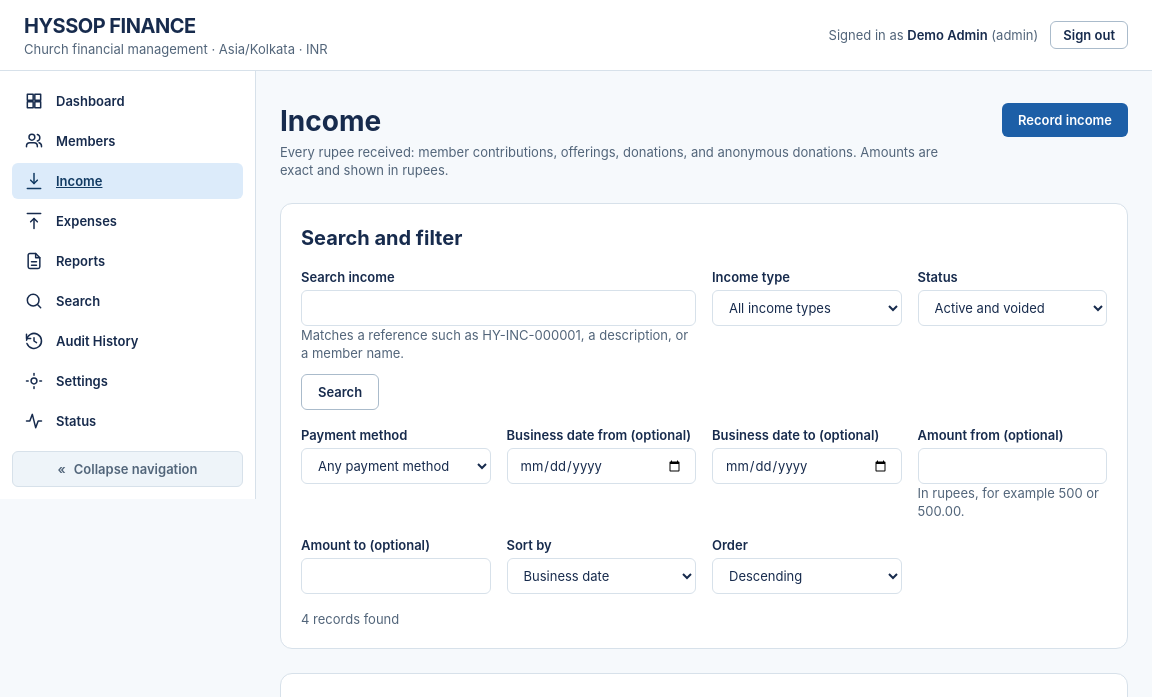
Test: searching and filtering income › shows the active criteria, can clear one, and can reset them all
Select "Active only" in the dropdown labelled "Status" at point(1012, 308), box 918,290 -> 1107,326
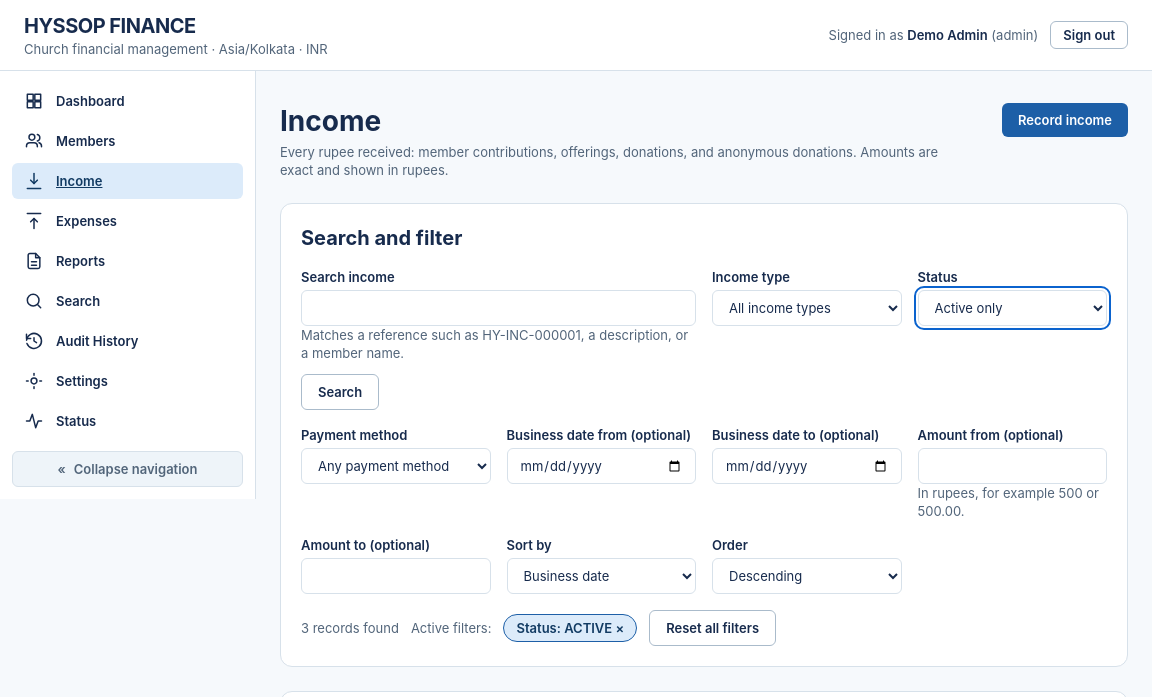
Type "offering" into the search field labelled "Search income" at point(498, 308), box 301,290 -> 696,326
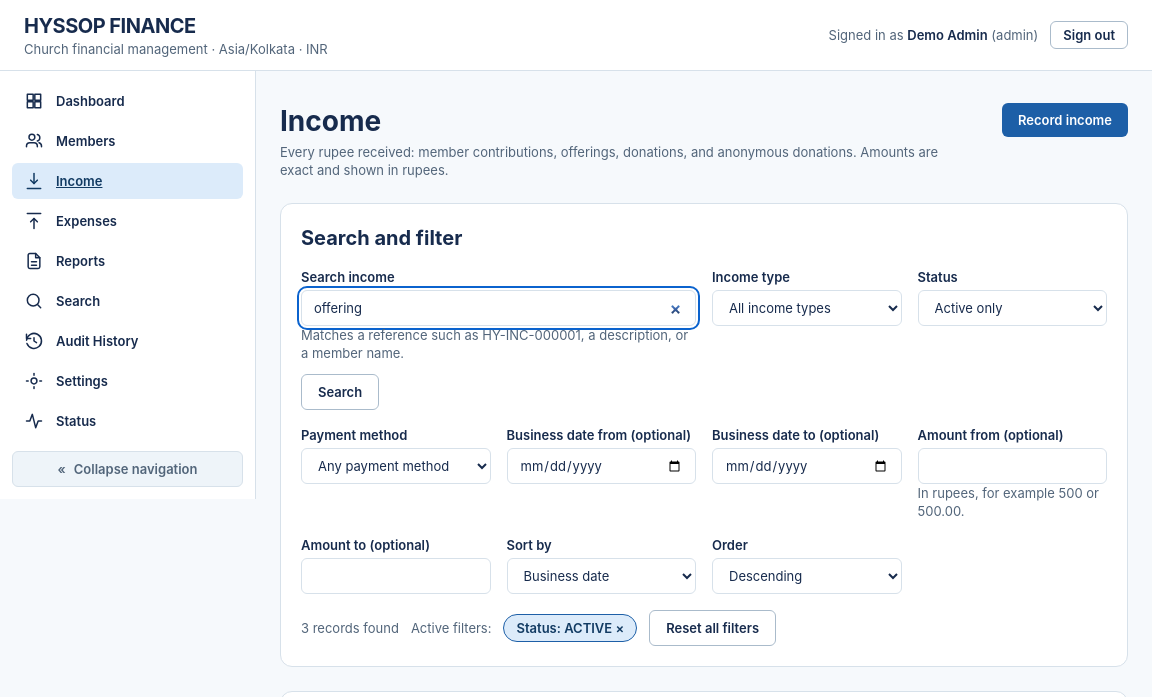
Click the button "Search" at point(340, 392), box 301,374 -> 379,410
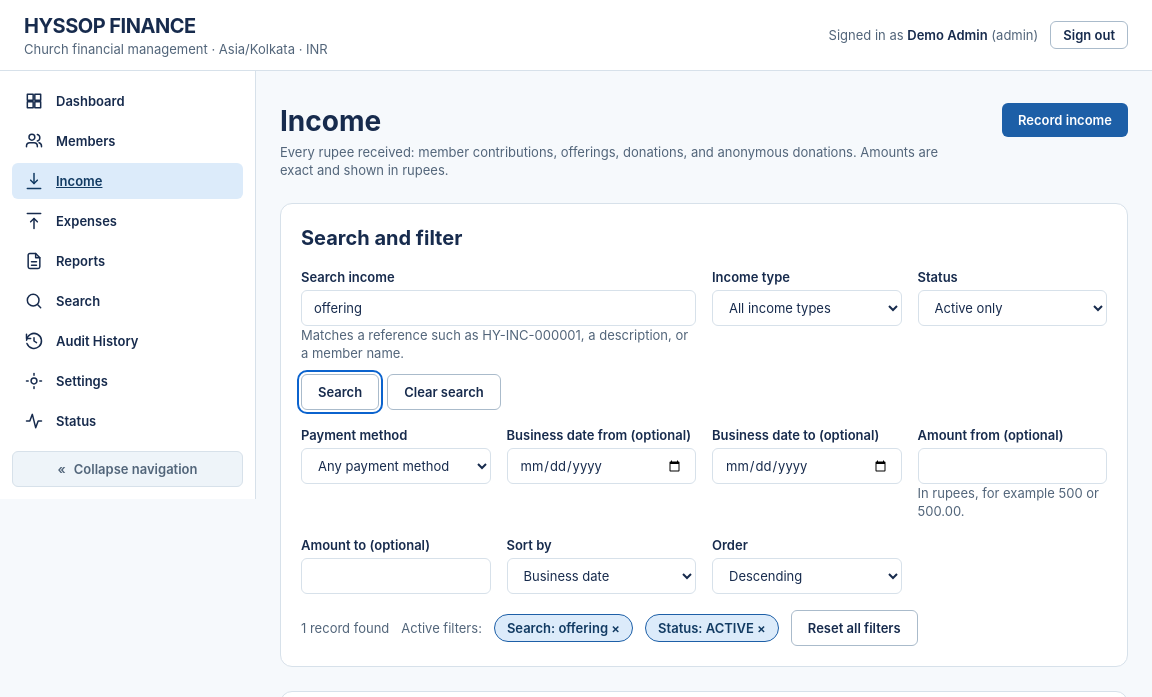
Expected: the button named "Remove filter: Status: ACTIVE" is shown, 645,614 -> 779,642
Expected: the text with test id "result-count" reads "1 record found", 301,620 -> 389,636
Expected: the button named "Remove filter: Search: offering" is shown
Click the button named "Remove filter: Search: offering" at point(564, 628), box 494,614 -> 633,642
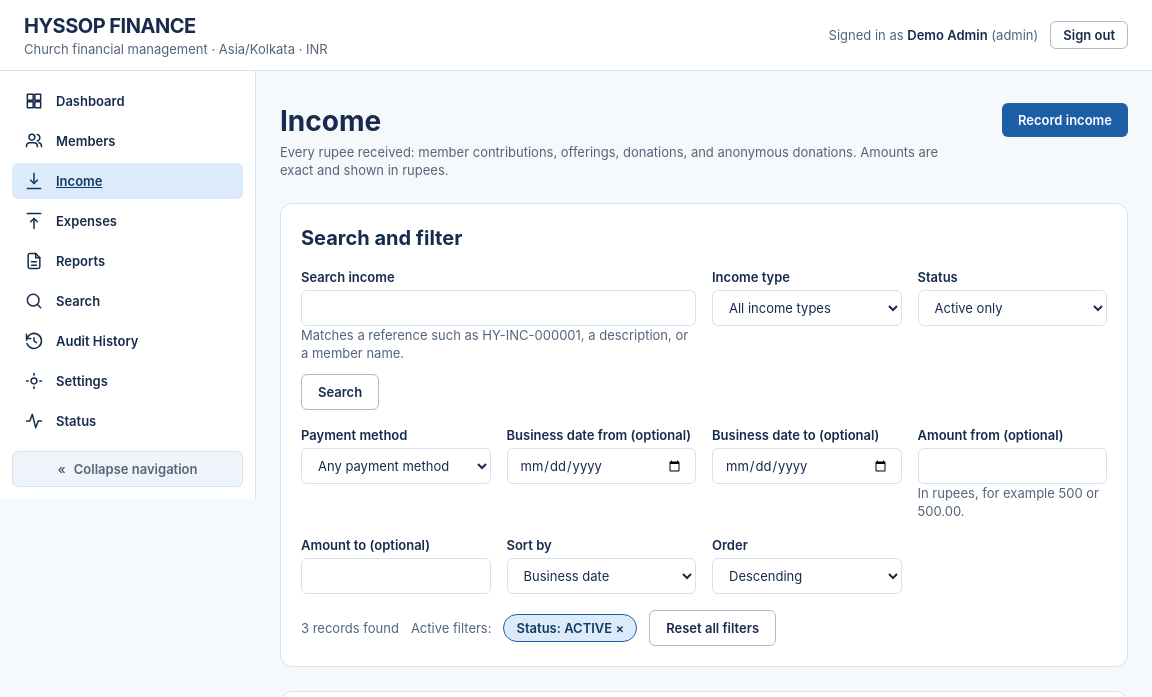
Expected: the button named "Remove filter: Status: ACTIVE" is shown, 504,614 -> 637,642
Expected: the text with test id "result-count" reads "3 records found", 301,620 -> 399,636
Expected: the search field labelled "Search income" is empty, 301,290 -> 696,326
Click the button "Reset all filters" at point(713, 628), box 649,610 -> 776,646
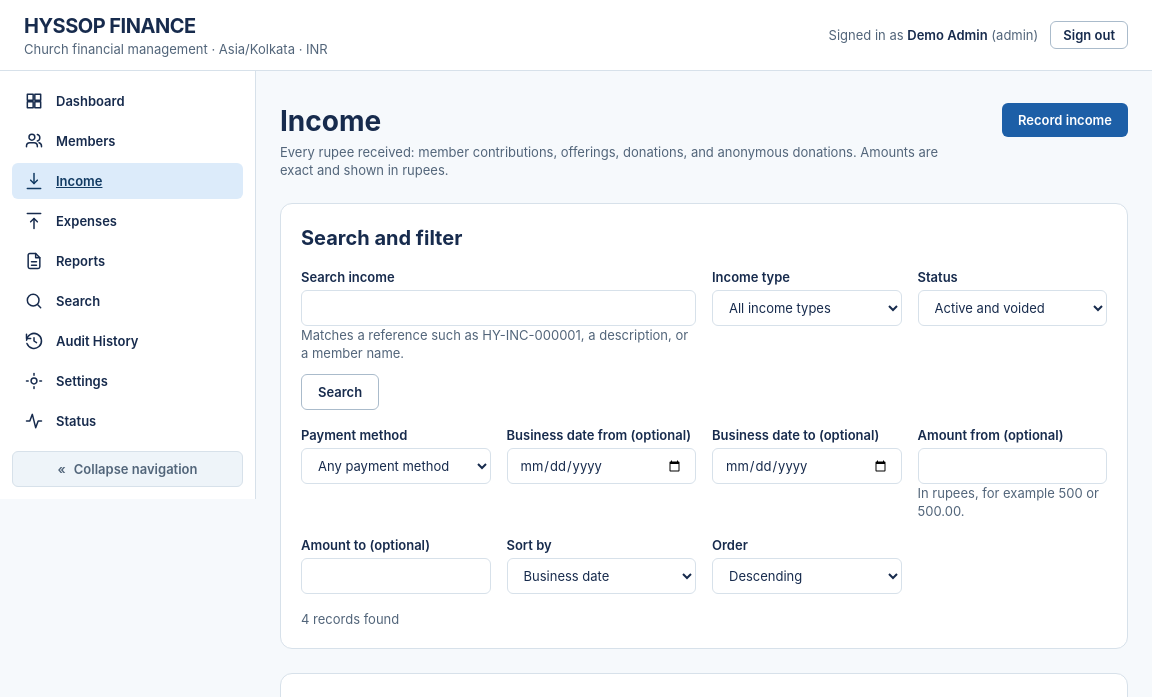
Expected: the button "Remove filter:" is not shown
Expected: the search field labelled "Search income" is empty, 301,290 -> 696,326
Expected: the text with test id "result-count" reads "4 records found", 301,611 -> 399,627
